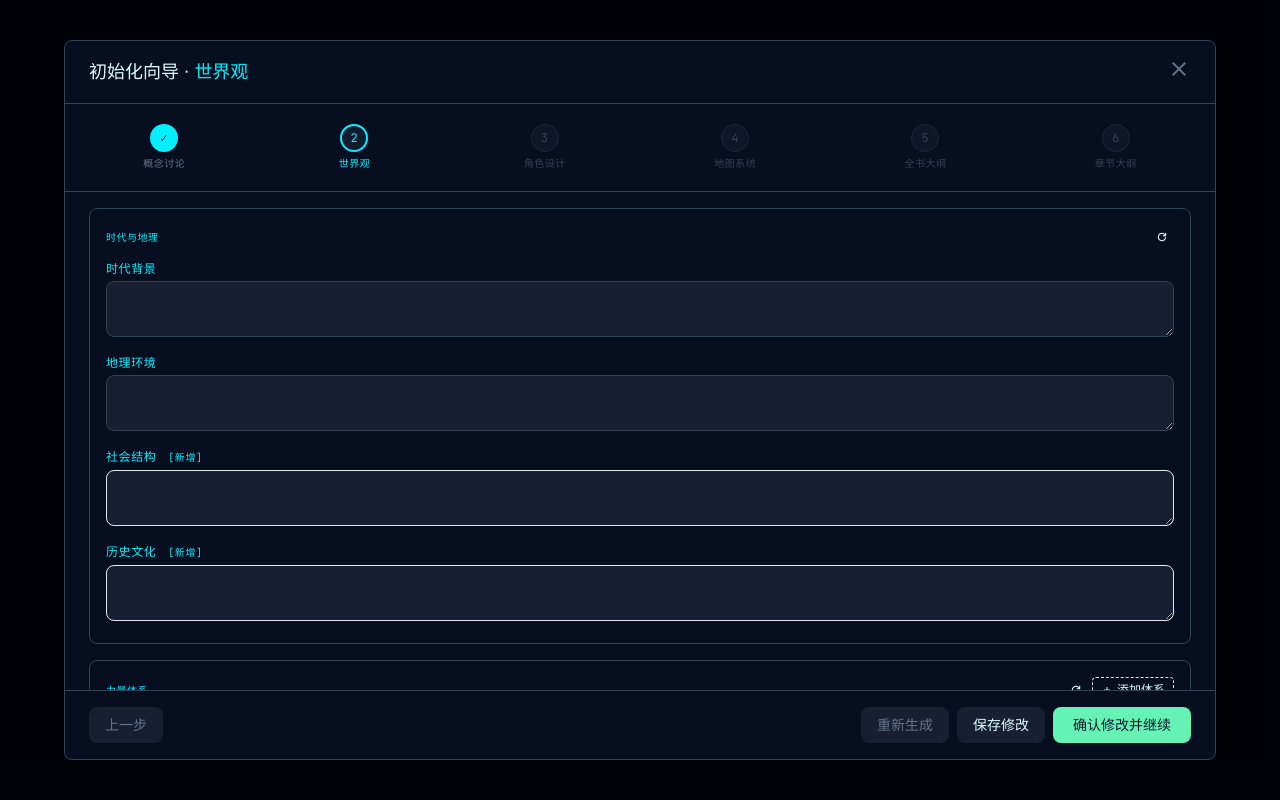
Test case: InitWizardModal › clicking a step in the indicator jumps to that step
Step 1. Click the button with test id "wizard-step-1" → (164, 148), box [73, 120, 255, 175]
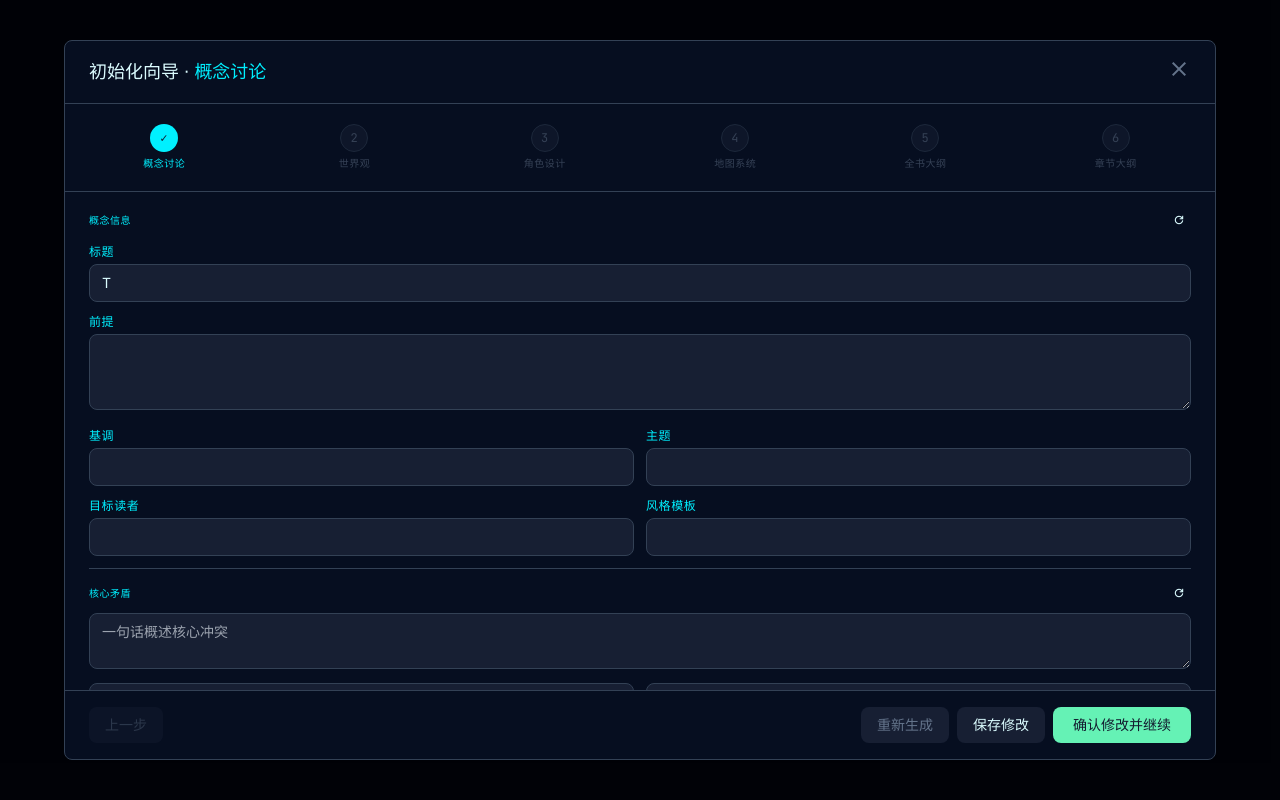
Expected: the element with test id "concept-step" is shown, [89, 208, 1191, 690]
